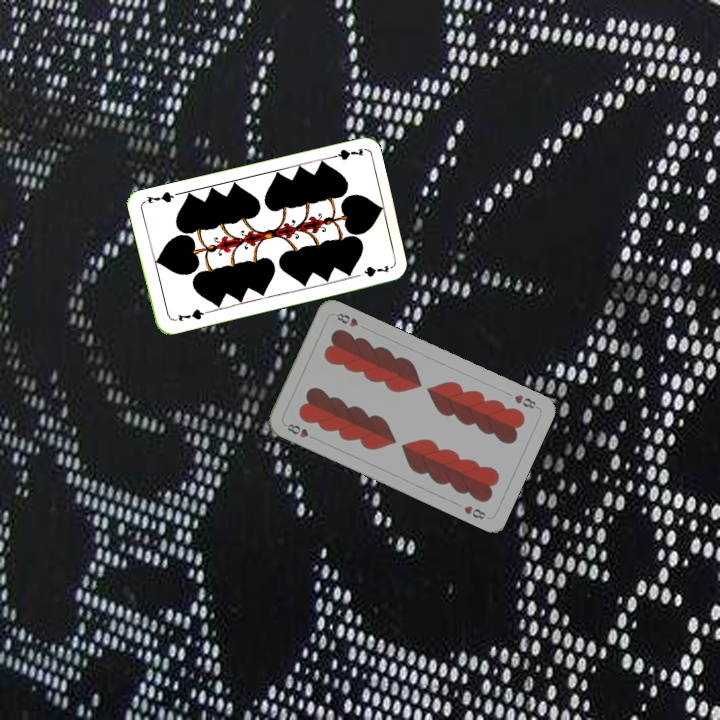G7: (324, 144, 366, 163), (169, 305, 209, 324)
H8: (283, 420, 319, 442), (510, 390, 541, 411)
